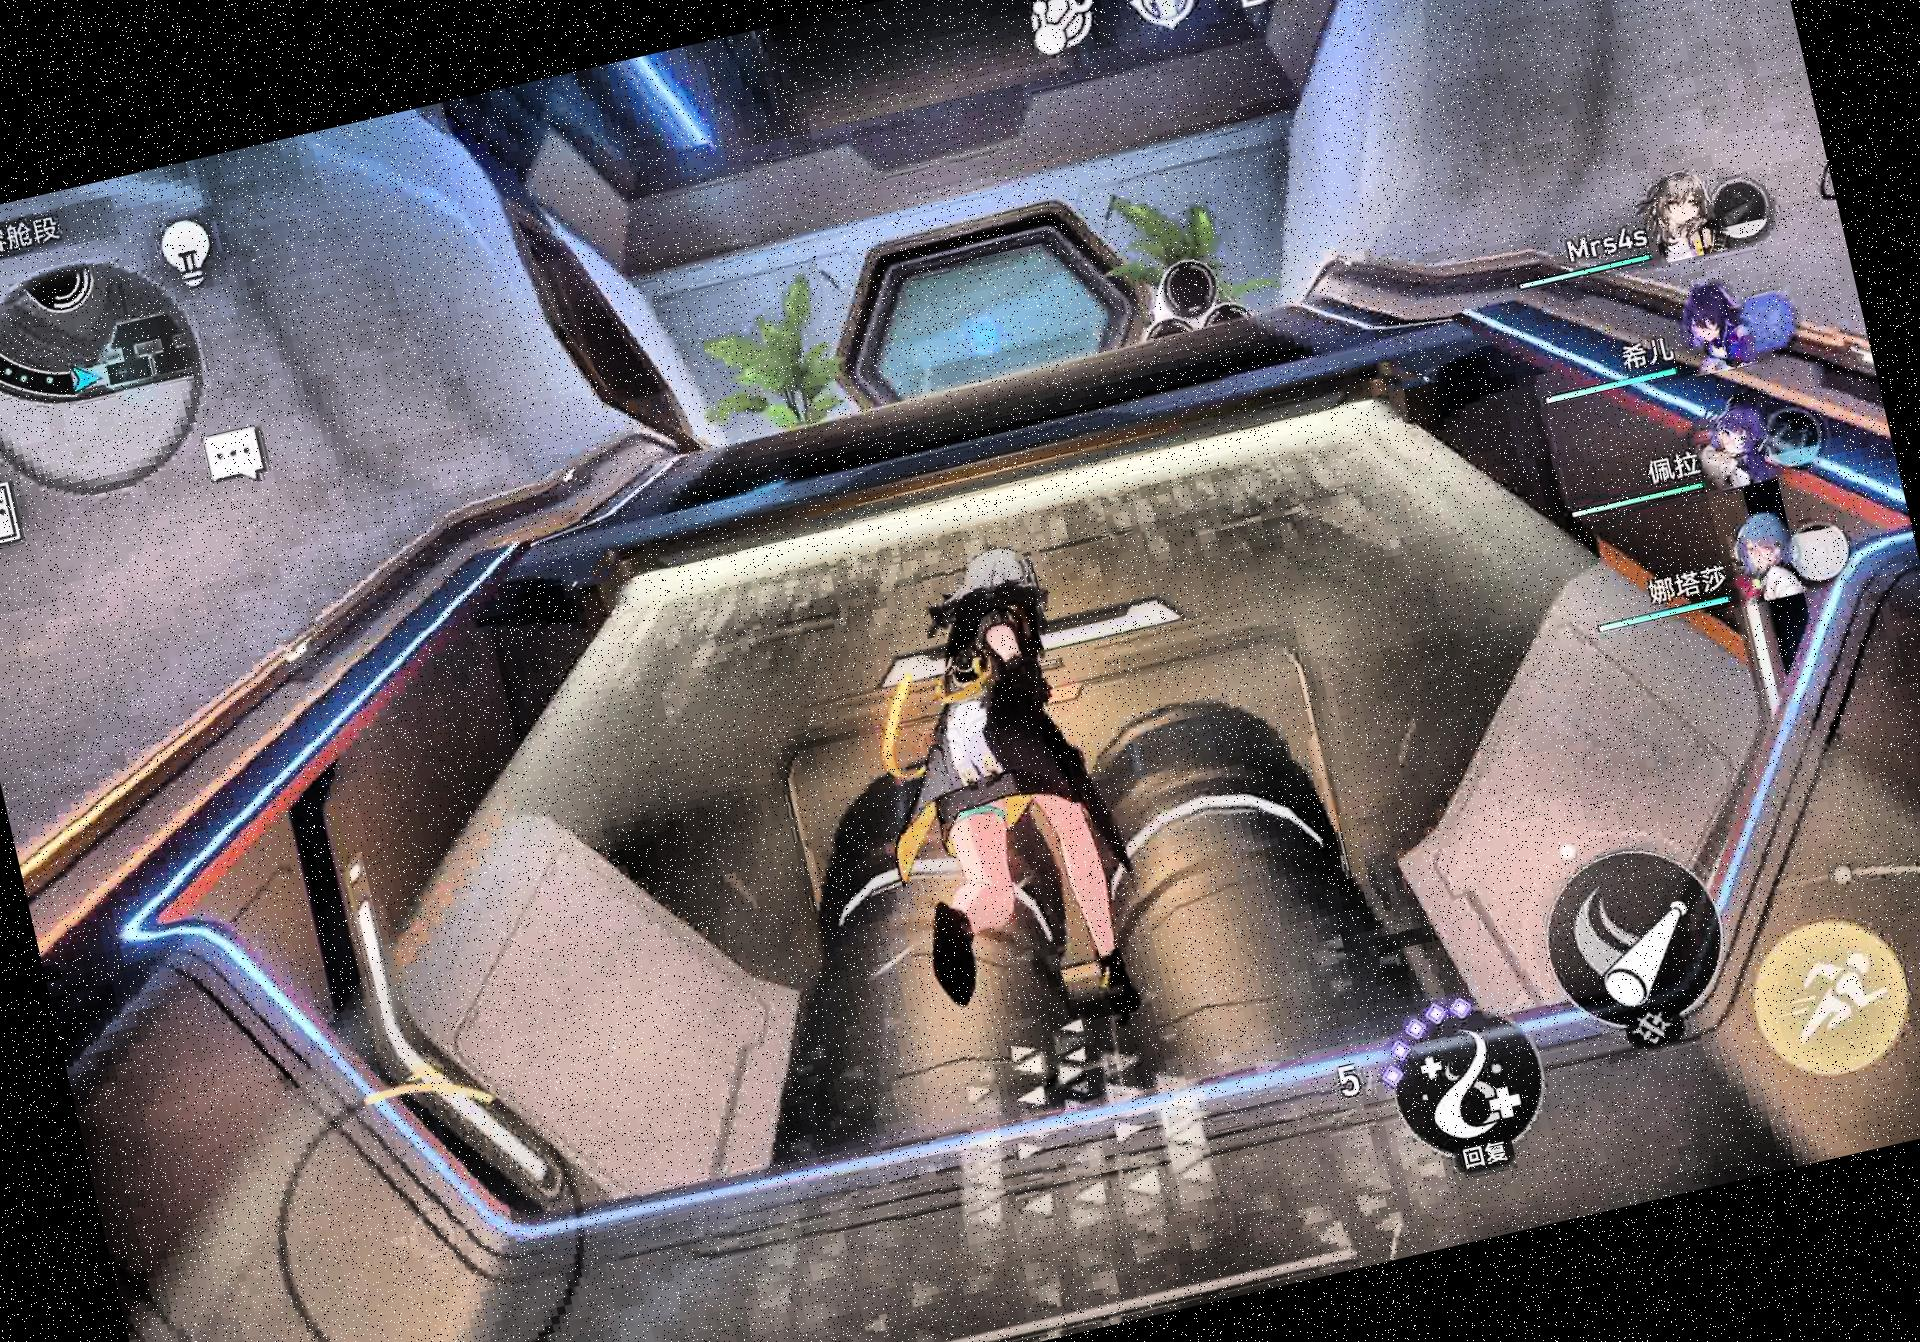Box: (1109, 235, 1263, 357)
Self: (818, 525, 1189, 1079)
